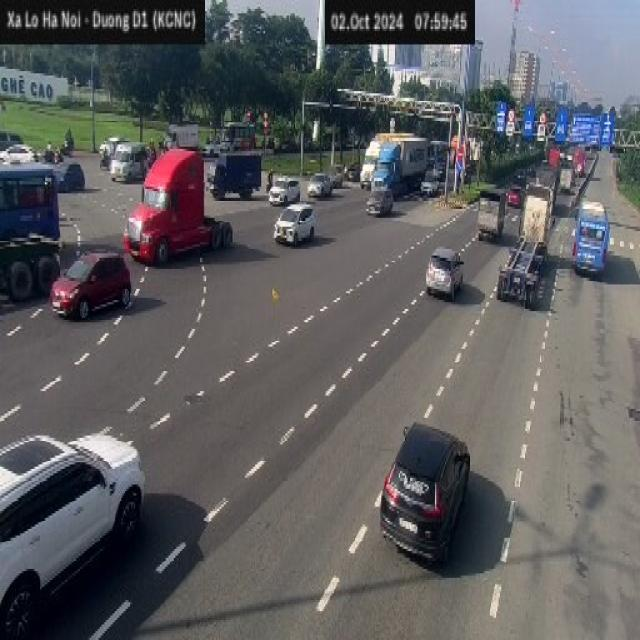bus: (0, 165, 61, 243), (577, 194, 612, 275)
car: (0, 429, 144, 597), (374, 405, 485, 571), (49, 254, 136, 322), (272, 200, 324, 250), (427, 237, 462, 304), (110, 140, 152, 180), (51, 157, 93, 195), (367, 182, 398, 220), (419, 161, 445, 203), (0, 142, 40, 169), (270, 169, 302, 199), (308, 165, 334, 201), (508, 182, 522, 216), (0, 126, 20, 146), (349, 162, 360, 182)
container-truck: (127, 159, 237, 264), (502, 186, 562, 311), (0, 227, 59, 301), (359, 130, 418, 186), (376, 143, 434, 189), (546, 141, 560, 178), (571, 148, 590, 174)
truck: (206, 148, 266, 199), (164, 109, 204, 154), (478, 176, 502, 248), (560, 159, 575, 201)
